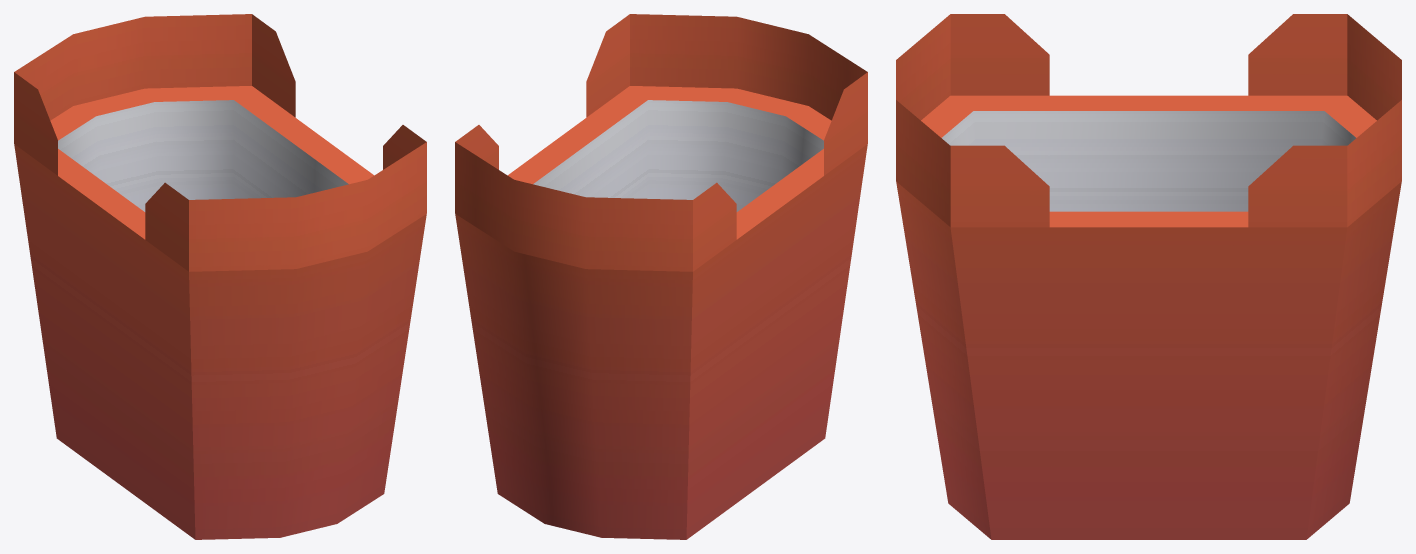
The model's file is fries-empty.glb.
3 views of the same model, side by side, from view 1: azimuth 30°, elevation 25°; view 2: azimuth 150°, elevation 25°; view 3: azimuth 270°, elevation 25° (orthographic). The views are drawn at different scales.
Parts seen in each view (by area): view 1: fries-empty; view 2: fries-empty; view 3: fries-empty.
Boxes of the visible parts, left/top/right/bottom form: fries-empty: left=14, top=14, right=426, bottom=539; fries-empty: left=455, top=14, right=867, bottom=539; fries-empty: left=896, top=14, right=1401, bottom=539.
Bounding box in the file's own units: 0.1635 × 0.236 × 0.2653.
1 material, 1 textured.
